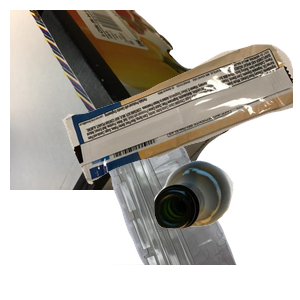cardboard: (10, 10, 238, 190)
glass: (151, 158, 300, 300)
plastic: (55, 120, 284, 300)
trash: (60, 42, 300, 219)
